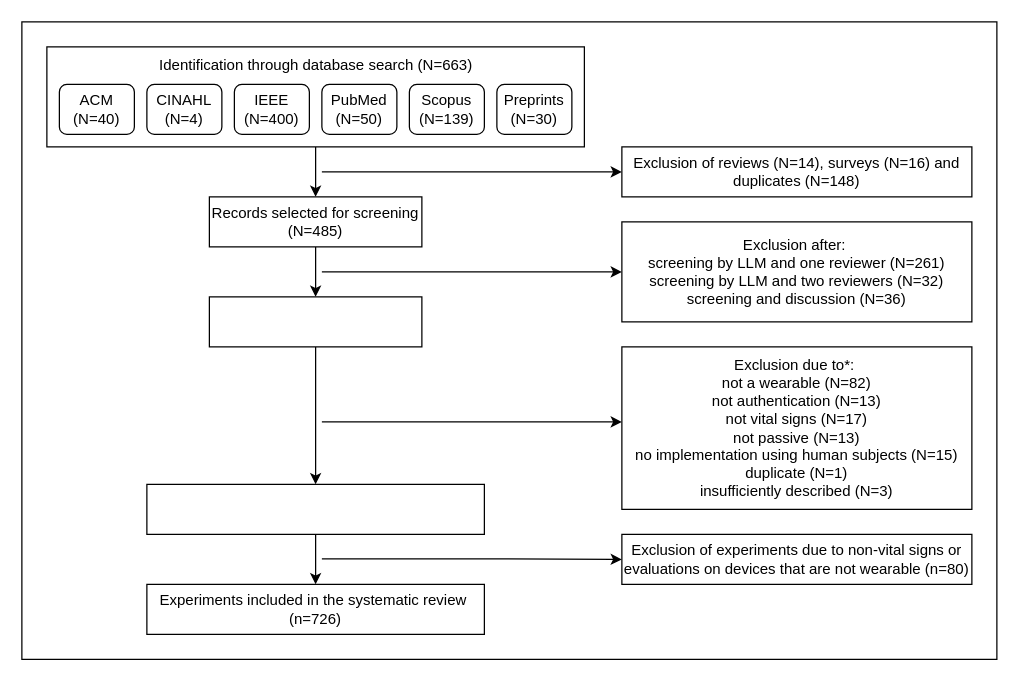
Some shapes in this 1019 by 681 pixel diagram are drawn without their labels. The centre of each missing label's shape, as x and y in pixels:
Articles included in the systematic review (N=26): (x=315, y=508)
Full text articles assessed for inclusion (N=155): (x=315, y=321)
